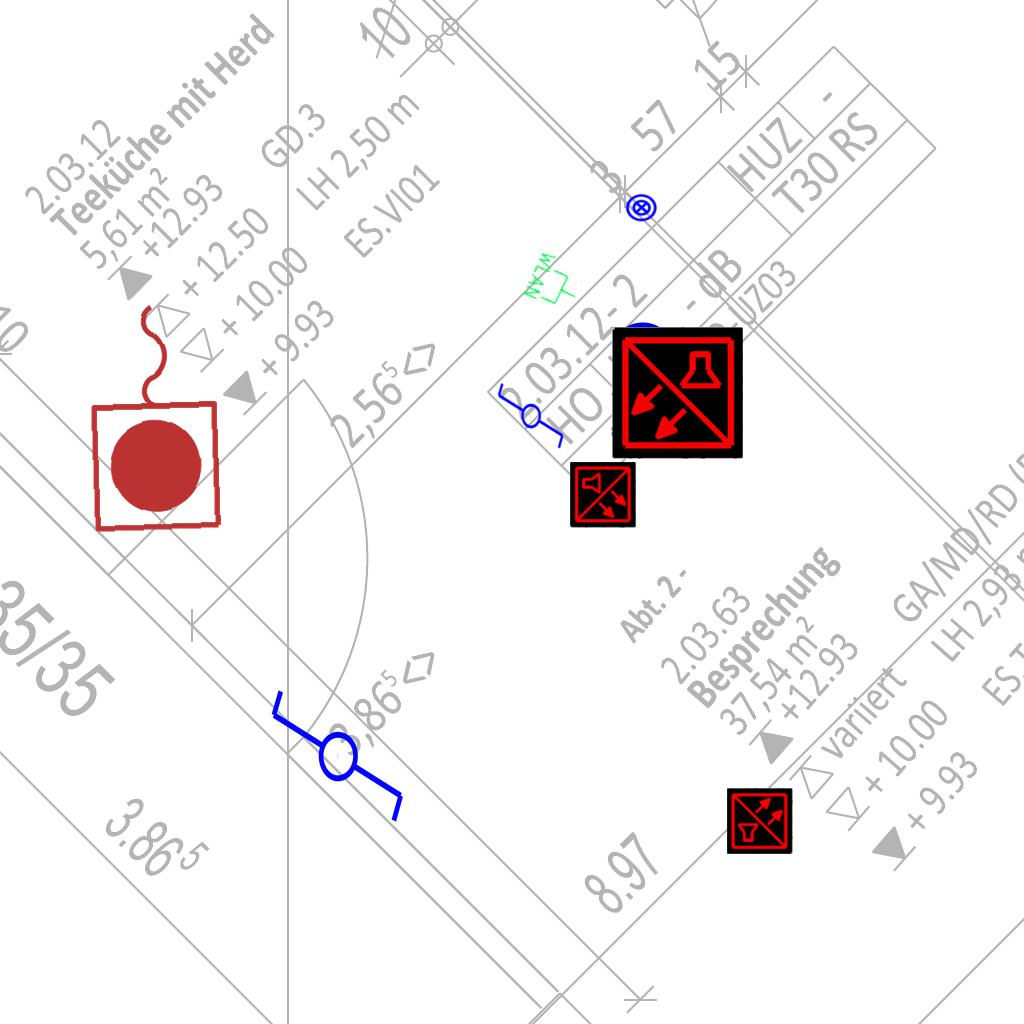OKW_Multisensormelder_(Kombination_optischer_Rauch-Kahlenmonoxid_Waerme-Melder): (611, 327, 743, 459), (570, 462, 636, 528), (727, 788, 793, 854)
Taster_beleuchtet: (610, 316, 676, 382), (625, 191, 658, 224)
WLAN: (520, 247, 590, 317)
Wechselschalter: (264, 686, 408, 843), (494, 381, 566, 459)
Zugtaster: (79, 291, 233, 541)
